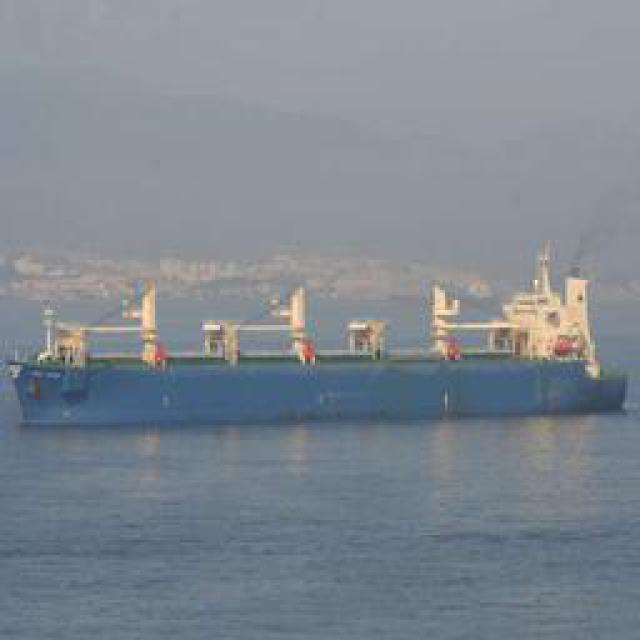Ship: (9, 266, 632, 431)
